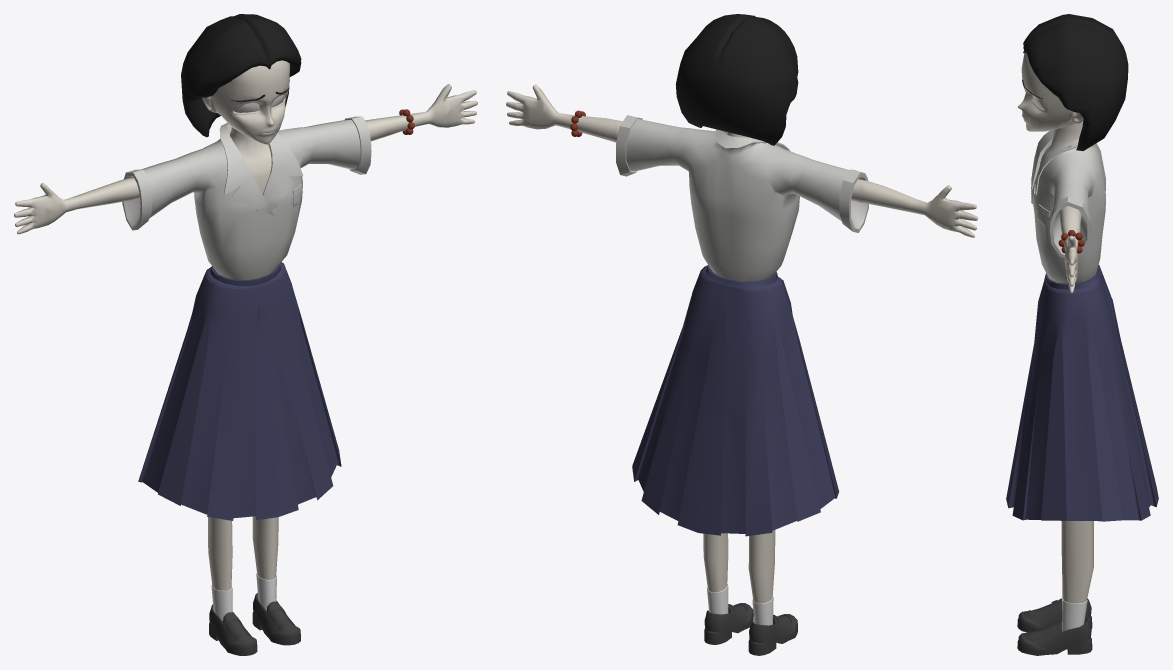
Rendered from SISTER.fbx.
The picture shows the model from 3 angles, left to right: view 1: azimuth 30°, elevation 25°; view 2: azimuth 150°, elevation 25°; view 3: azimuth 270°, elevation 25°; orthographic projection.
Visible parts, largest first — view 1: skirt, shirt, body, hair, face, shoe_L, shoe_R; view 2: skirt, shirt, hair, body, shoe_L, shoe_R; view 3: skirt, hair, shirt, body, face, shoe_L, shoe_R, socks_L, shoe_R02 (×2), hair_tie.
Part boxes in pixels (x1=…): skirt: x1=138, y1=262, x2=341, y2=520; shirt: x1=122, y1=116, x2=371, y2=280; body: x1=14, y1=84, x2=477, y2=590; hair: x1=181, y1=14, x2=301, y2=137; face: x1=202, y1=60, x2=289, y2=144; shoe_L: x1=252, y1=593, x2=300, y2=645; shoe_R: x1=209, y1=604, x2=257, y2=655; skirt: x1=632, y1=265, x2=839, y2=536; shirt: x1=616, y1=115, x2=868, y2=281; hair: x1=675, y1=14, x2=798, y2=145; body: x1=506, y1=84, x2=977, y2=603; shoe_L: x1=704, y1=603, x2=753, y2=644; shoe_R: x1=748, y1=614, x2=797, y2=655; skirt: x1=1006, y1=265, x2=1158, y2=521; hair: x1=1023, y1=14, x2=1128, y2=150; shirt: x1=1031, y1=130, x2=1105, y2=283; body: x1=1039, y1=121, x2=1093, y2=603; face: x1=1018, y1=52, x2=1083, y2=131; shoe_L: x1=1017, y1=618, x2=1092, y2=655; shoe_R: x1=1017, y1=598, x2=1092, y2=632; socks_L: x1=1062, y1=598, x2=1087, y2=631; shoe_R02 (×2): x1=1030, y1=598, x2=1061, y2=640; hair_tie: x1=1058, y1=230, x2=1084, y2=253.
Size of the model in its own units: 1.54 by 1.95 by 0.4365.
